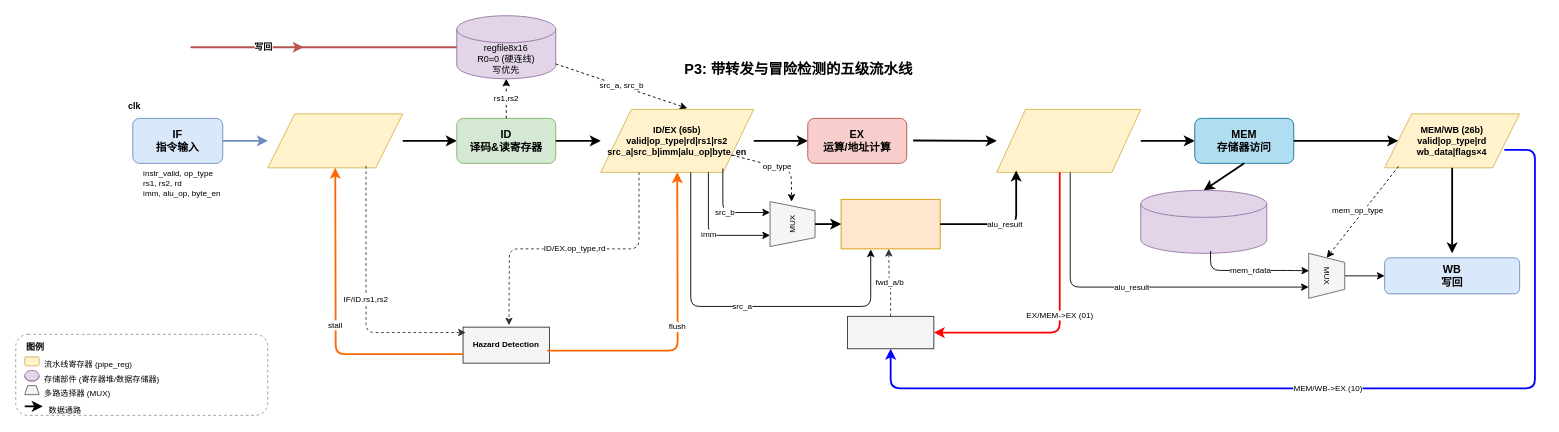
Image size: 1559x432. Some labels were removed from this diagram. Each missing label, with the box of its shape:
alu16 ADD|SUB|AND|OR XOR|SLL|SRL|CMPU: (840, 198, 940, 249)
data_mem32x16 addr = alu_result[4:0] byte_en 控制写字节: (1140, 189, 1267, 253)
EX/MEM (44b) valid|op_type|rd alu_result|src_b byte_en|flags×4: (996, 108, 1141, 172)
Forwarding Unit: (847, 315, 934, 349)
IF/ID (33b) valid|op_type|rs1|rs2 |rd|imm|alu_op|byte_en: (267, 113, 403, 168)
